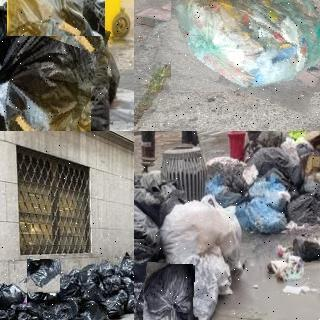Garbage: (163, 0, 320, 103), (0, 3, 101, 131), (7, 0, 105, 36), (142, 263, 194, 320), (134, 170, 179, 221), (134, 196, 163, 263), (232, 197, 285, 233), (134, 235, 153, 320), (27, 259, 61, 293), (284, 191, 320, 223), (41, 297, 84, 320), (292, 232, 320, 262), (0, 283, 27, 310), (76, 300, 108, 320), (77, 261, 100, 288), (104, 293, 125, 316), (12, 307, 43, 320), (119, 254, 134, 278), (0, 301, 14, 320), (125, 295, 134, 313)
